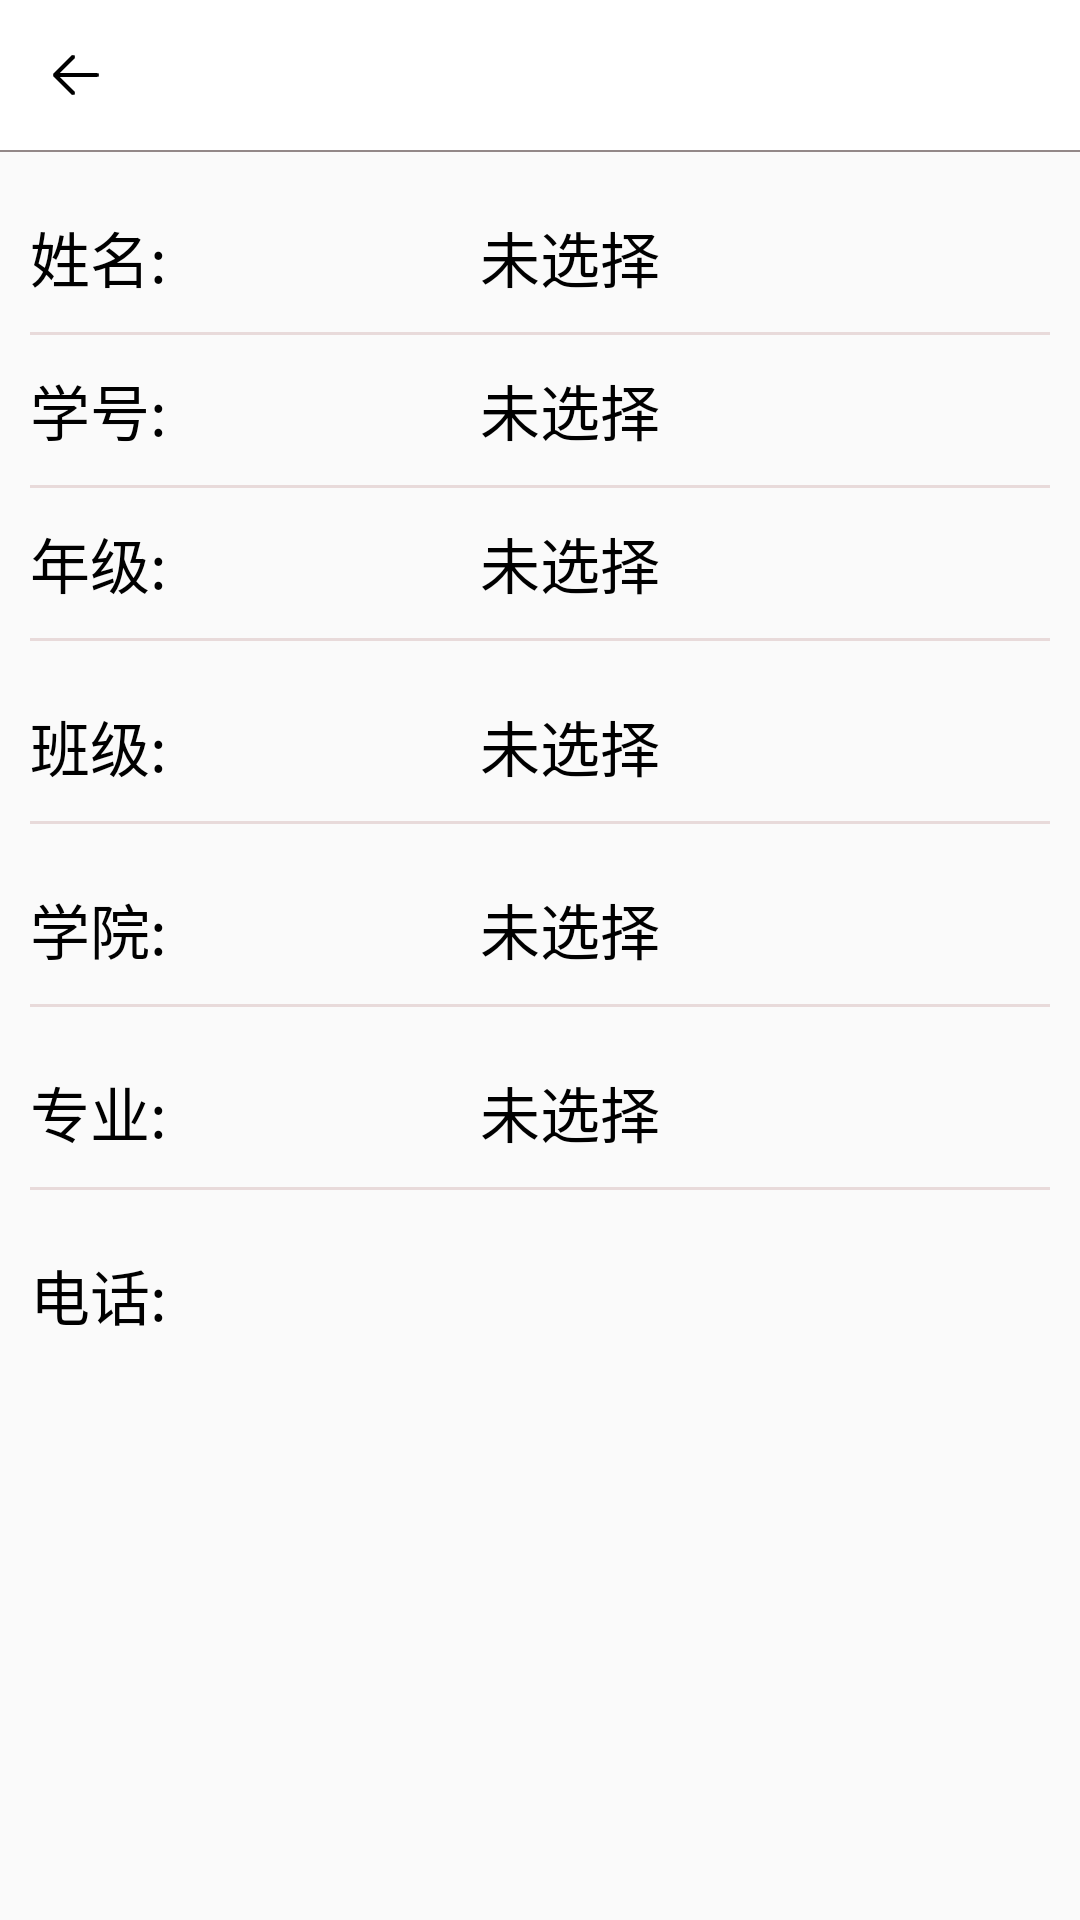

Icon click points for this 1080px×1920px phone screenshot, format point (x, y):
home back: point (76, 75)
